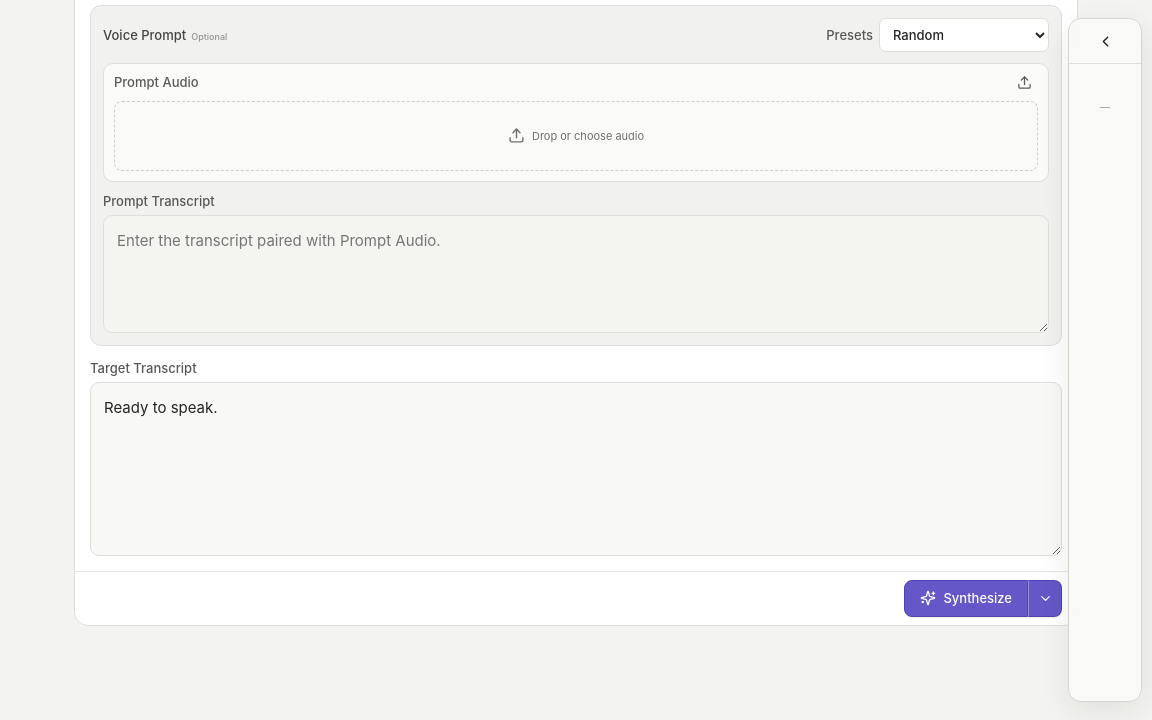
Test: Studio layout › replaces the latest-result media area with generation progress
(page scrolled)
Click the button "Synthesize" at (966, 598), box [904,580,1028,617]
(page scrolled)
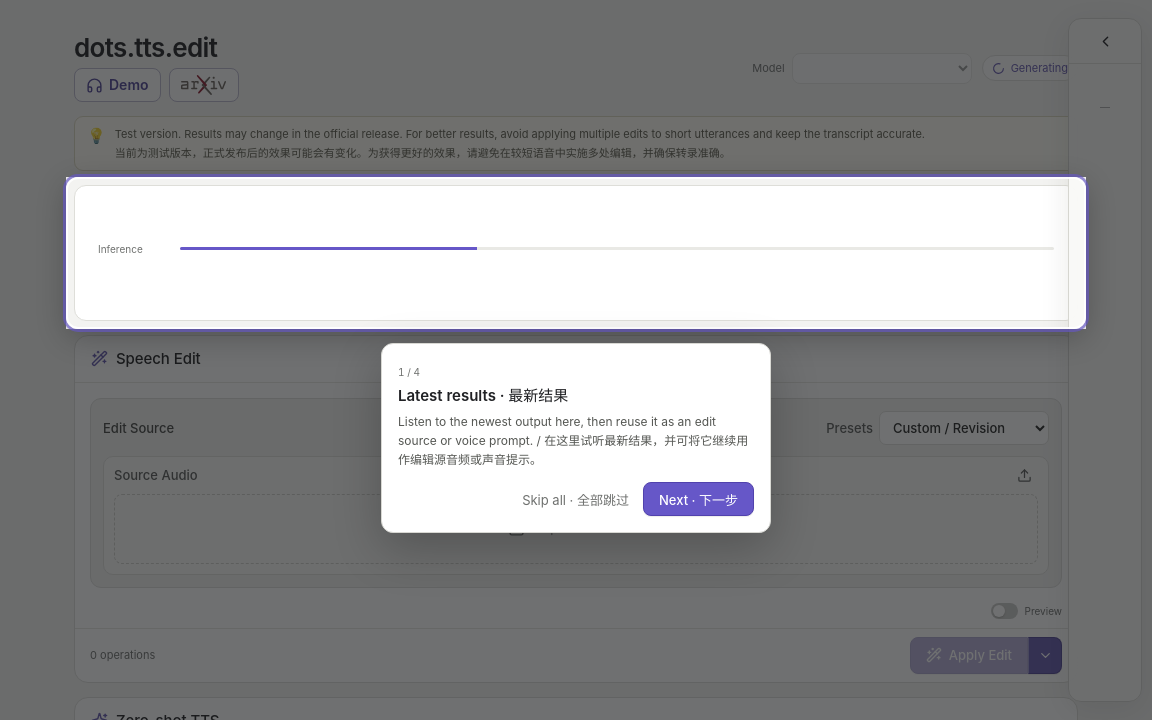
expect the element with class "generation-progress" is shown: met, box [98,243,1054,255]
